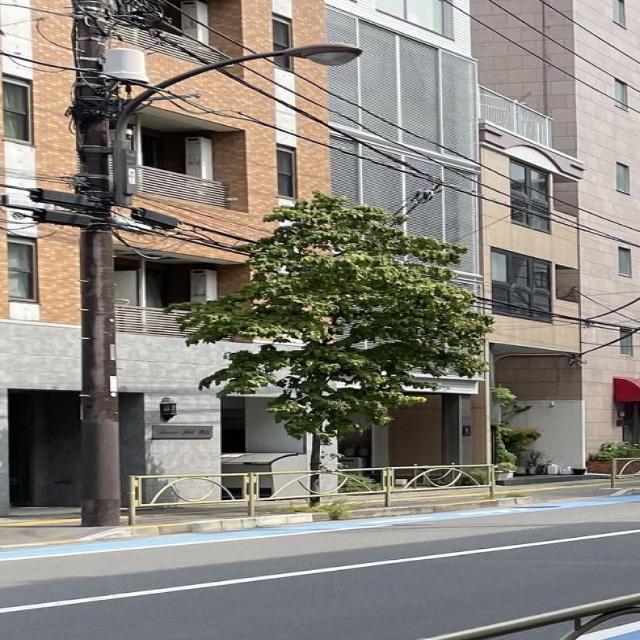dogwood: (159, 189, 496, 508)
